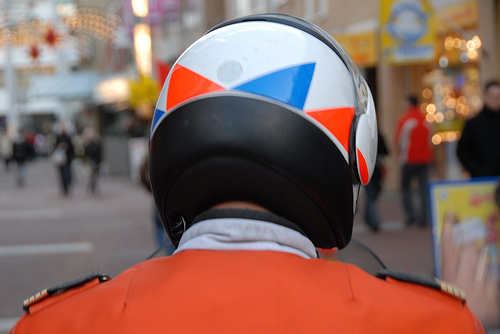helmet: (148, 18, 394, 241)
